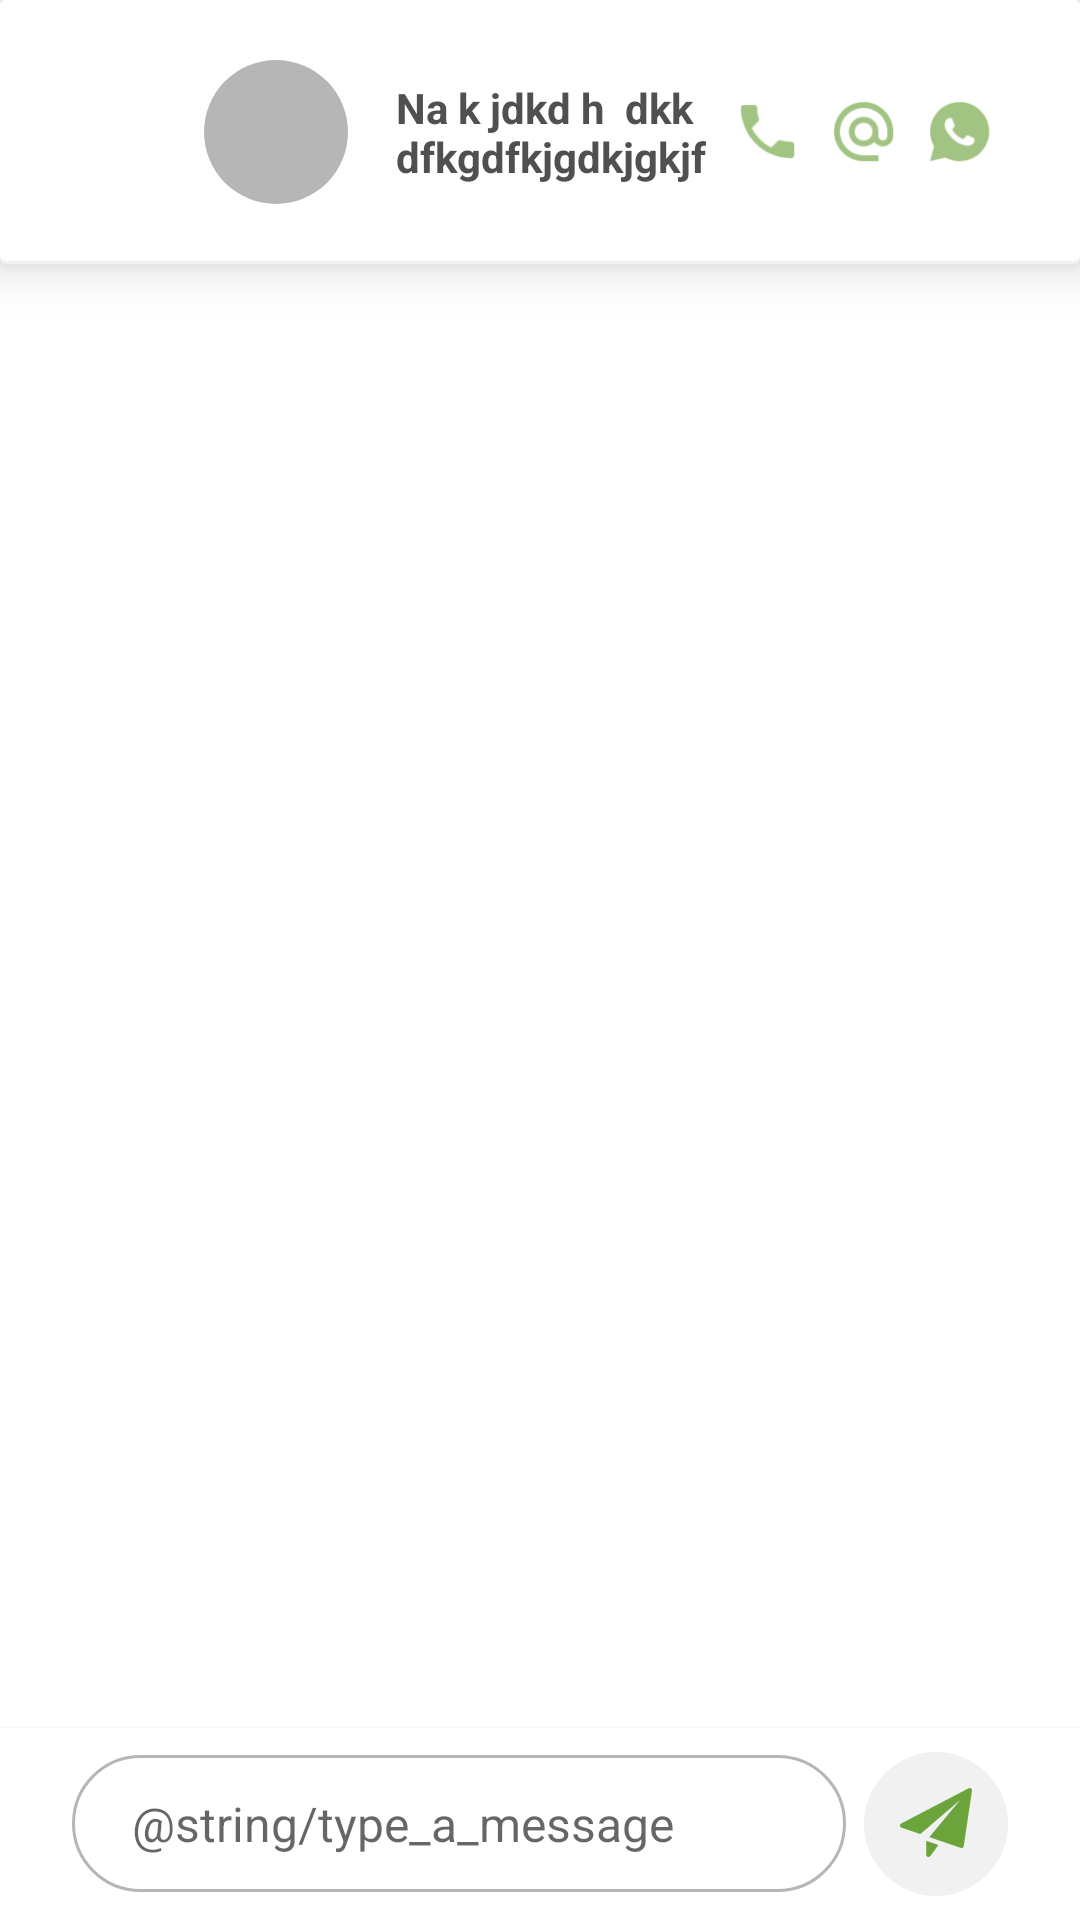

Screen size 1080 x 1920. Icon name, then its box in pixels as (x1, y1, x2, y2):
call: (741, 105, 795, 158)
mail: (834, 102, 894, 162)
send: (864, 1752, 1008, 1896)
